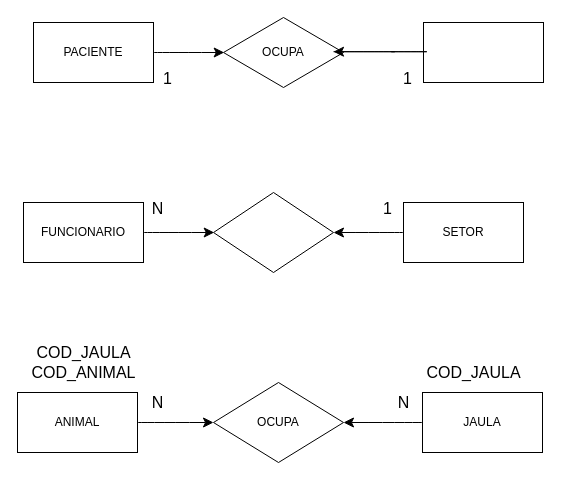
This 561x480 diagram has some shape labels left out. The shapes that lost their labels are listed below. From the top down, each one's centre as x and y in pixels, then its label:
At [483,52]: "LEITO".
At [273,232]: "POSSUI".
